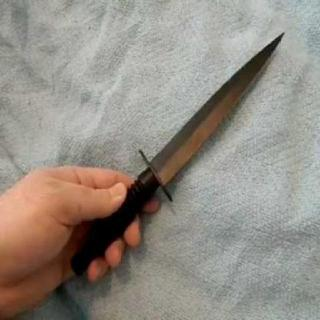knife: (95, 20, 293, 264)
